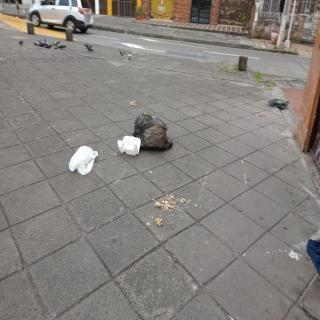Garbage: (130, 110, 176, 154), (267, 93, 291, 113)
